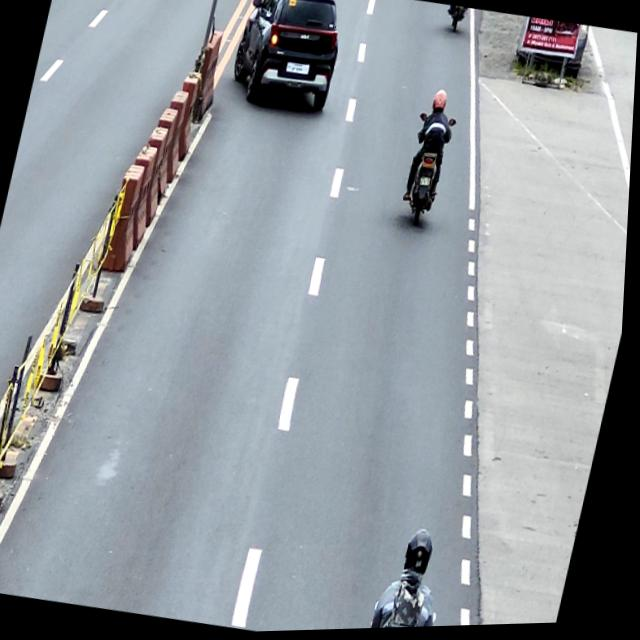Car: (225, 0, 351, 115)
License-Plate: (290, 63, 306, 76), (420, 178, 432, 190)
Motorcycle: (398, 113, 459, 232)
